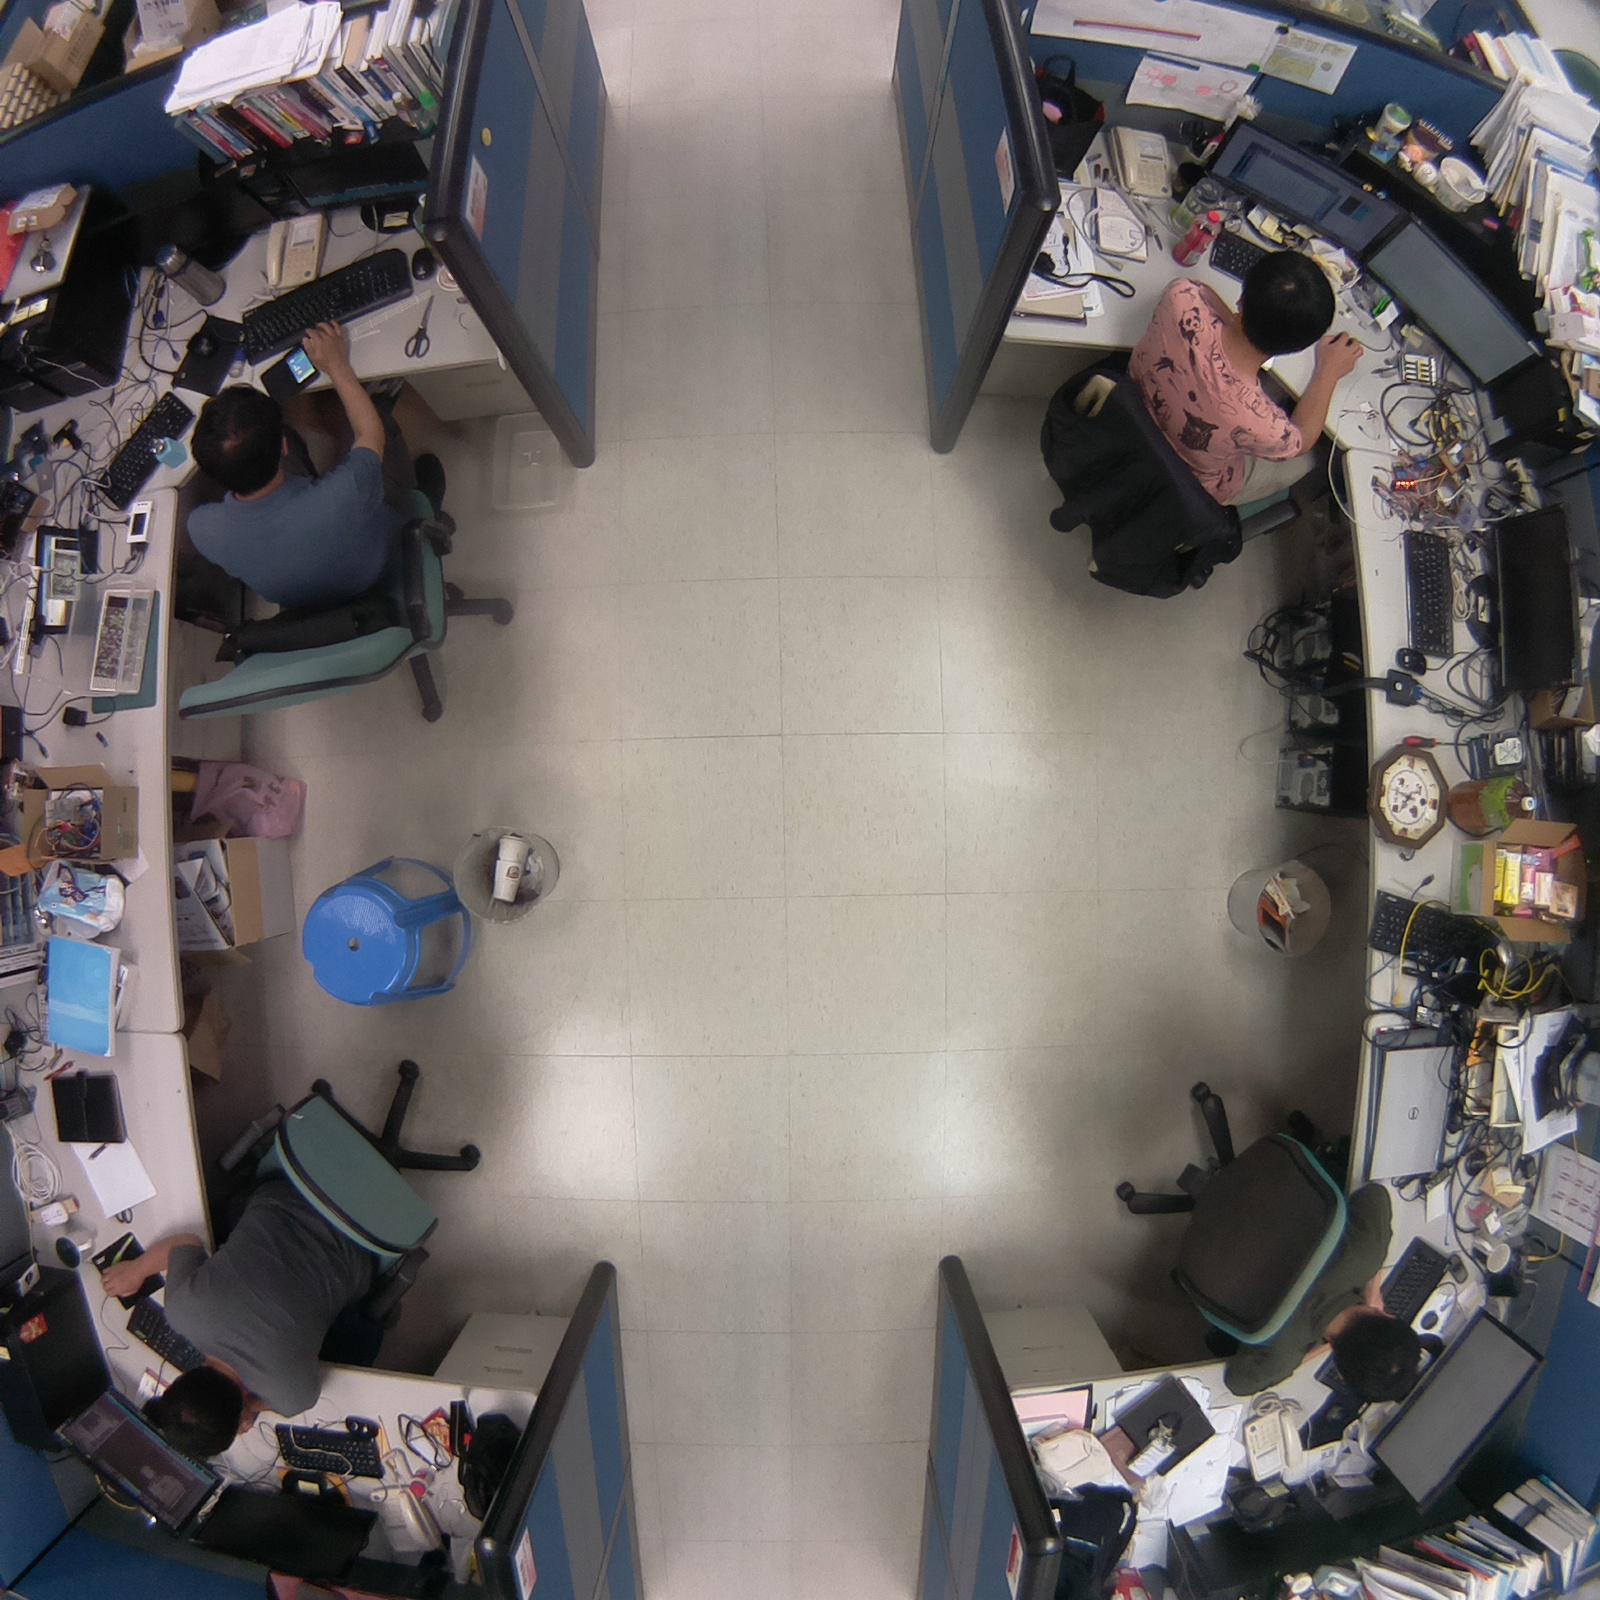head: (182, 374, 299, 492), (1321, 1306, 1427, 1412), (1233, 247, 1339, 351), (148, 1355, 250, 1463)
sitting: (94, 1050, 496, 1470), (165, 311, 524, 752), (1024, 219, 1365, 611), (1106, 1065, 1437, 1419)
